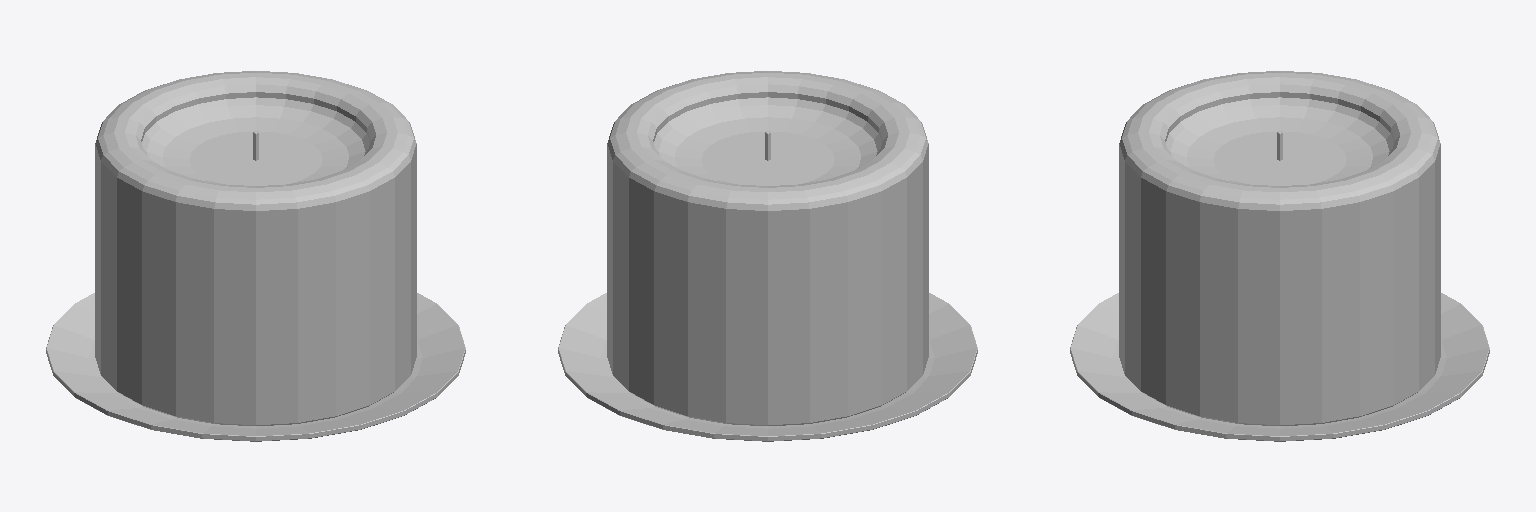
The model's file is candleWhite_obj.obj.
The picture shows the model from 3 angles: view 1: azimuth 30°, elevation 25°; view 2: azimuth 150°, elevation 25°; view 3: azimuth 270°, elevation 25°; orthographic projection.
Visible parts, largest first — view 1: candleWax, candlePlate; view 2: candleWax, candlePlate; view 3: candleWax, candlePlate.
Boxes of the visible parts, x1,y1,x2,y2 form: candleWax: [95, 71, 416, 425]; candlePlate: [46, 293, 465, 441]; candleWax: [607, 71, 928, 425]; candlePlate: [558, 293, 977, 441]; candleWax: [1119, 71, 1440, 425]; candlePlate: [1070, 293, 1489, 441].
Bounding box in the file's own units: 14.11 × 9.17 × 14.11.